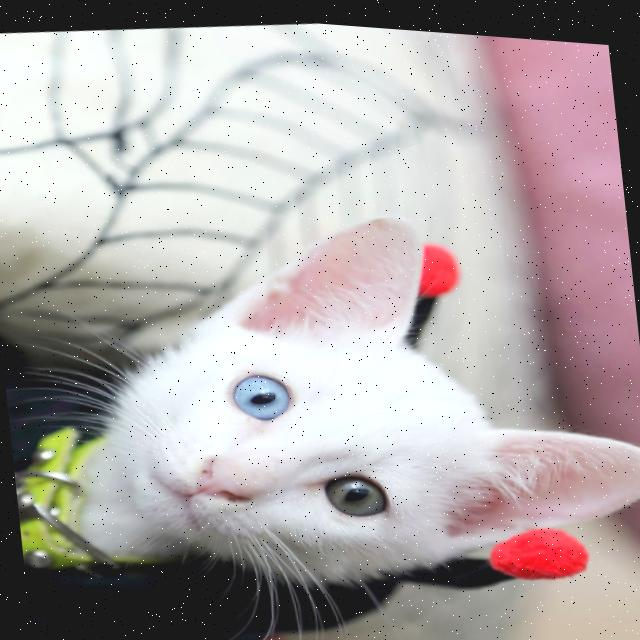Khao Manee: (0, 158, 640, 637)
